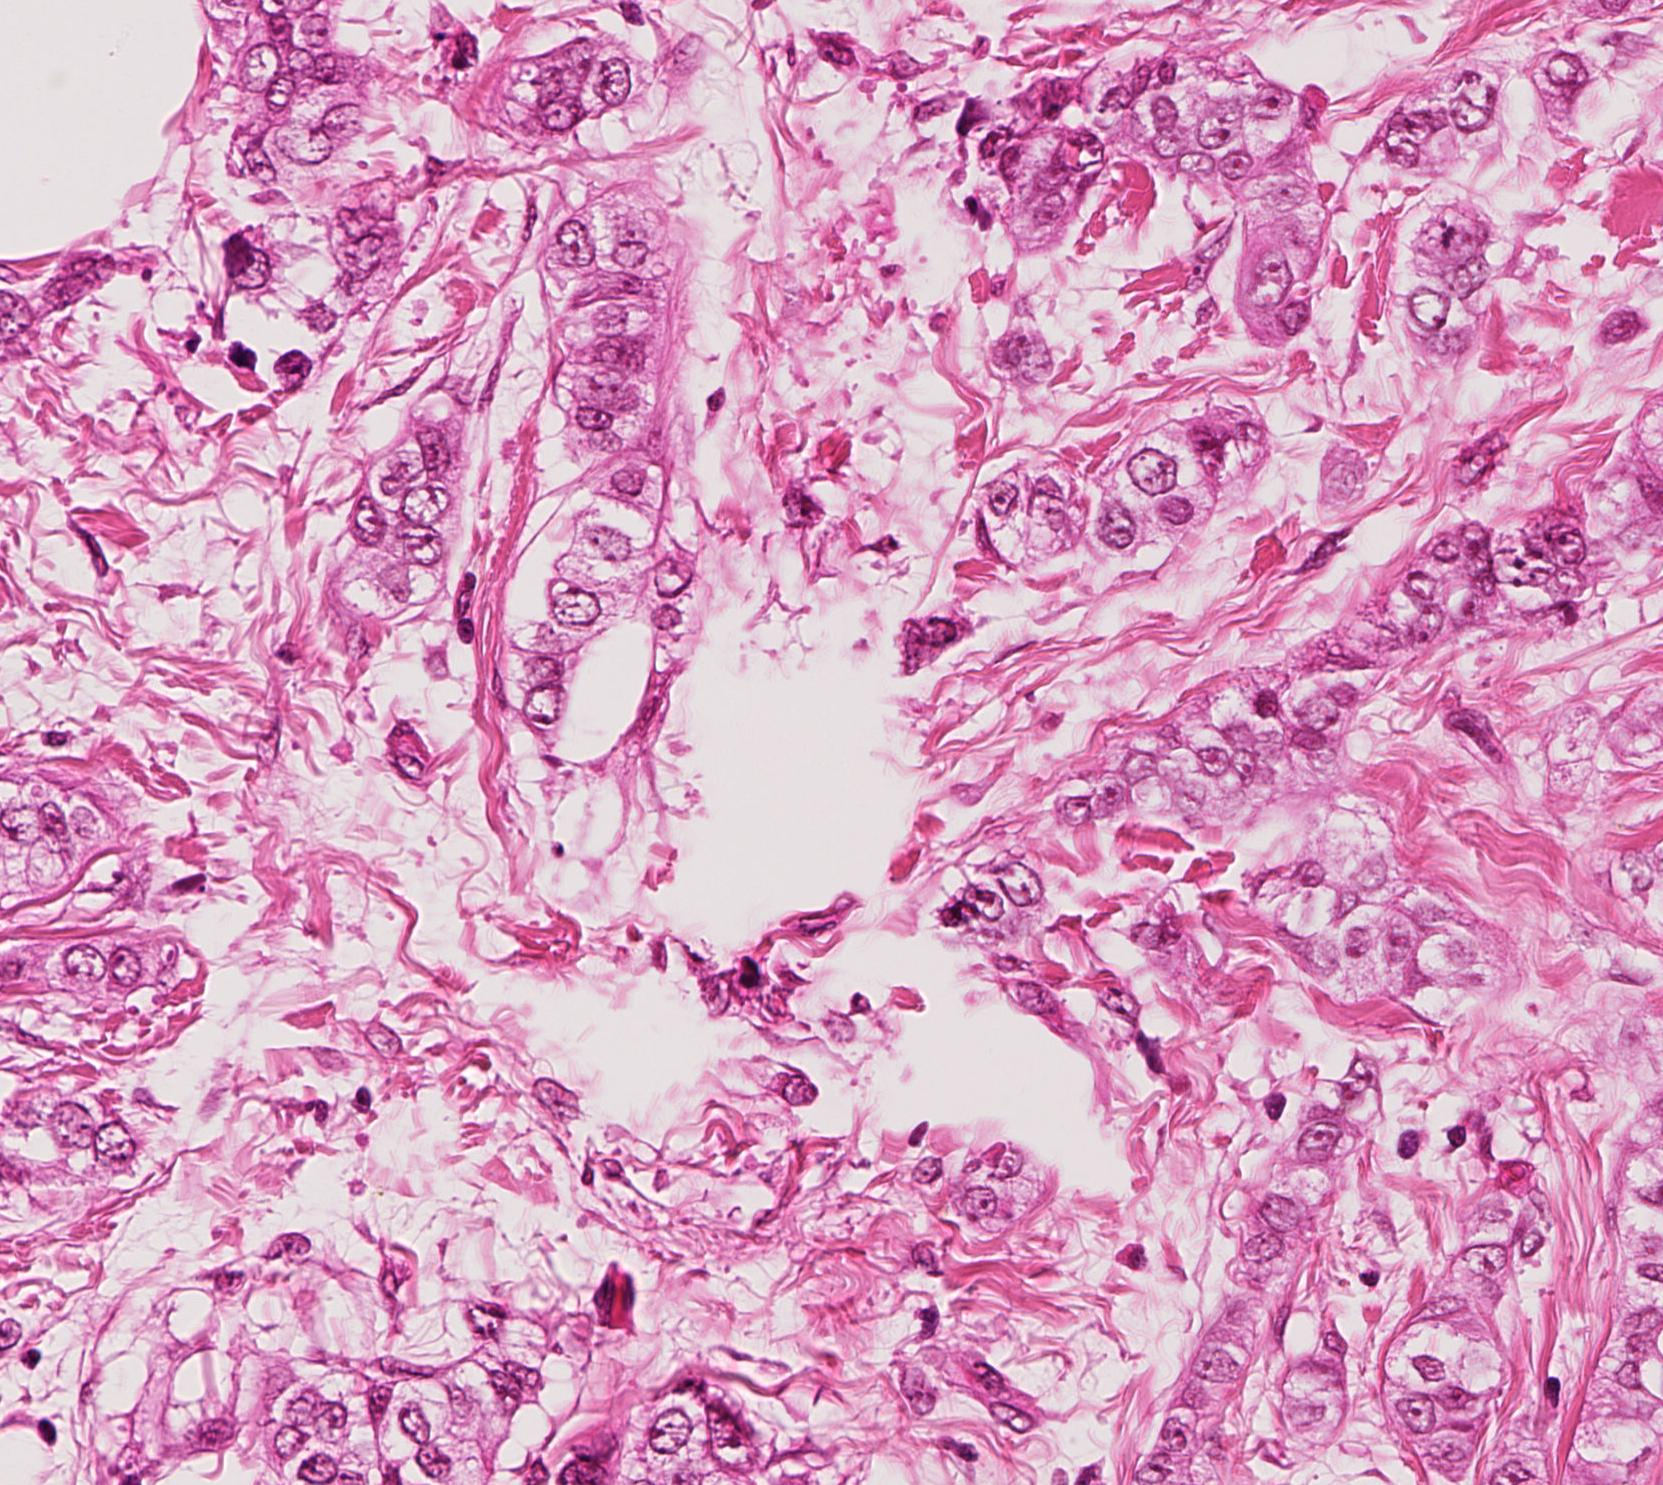mitosis: (1422, 208, 1482, 268)
